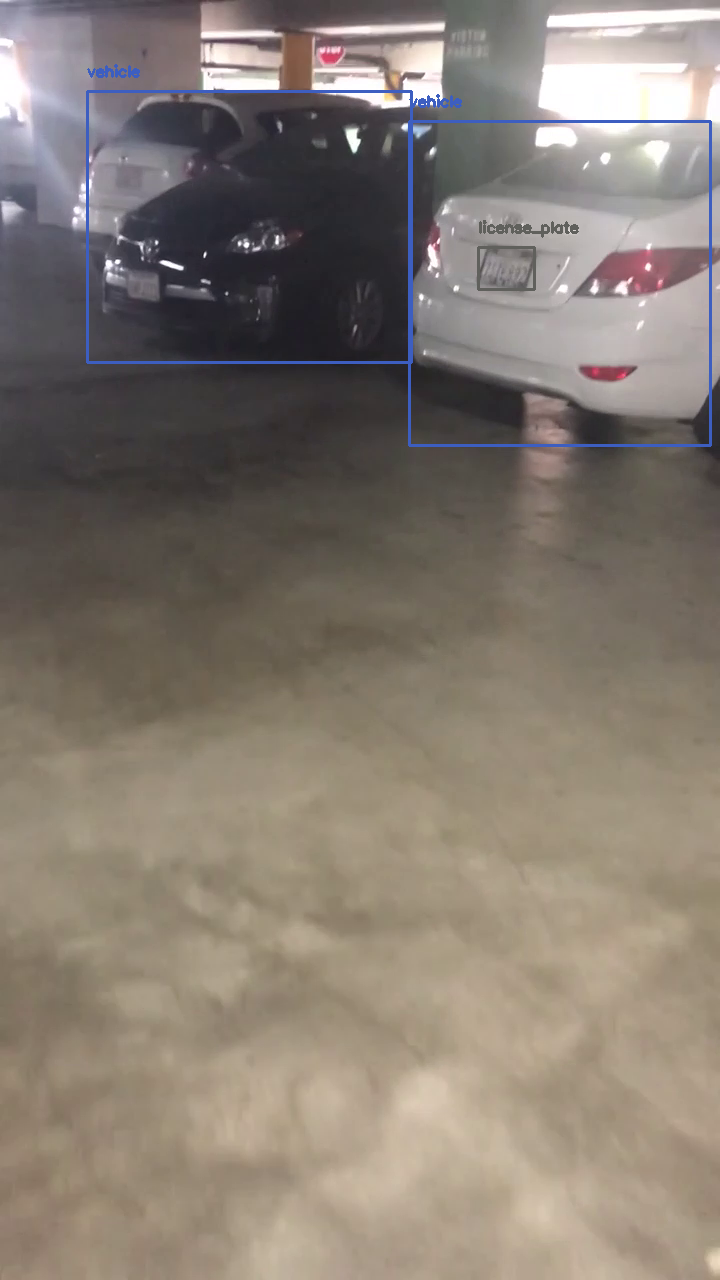license_plate: (478, 247, 534, 289)
vehicle: (409, 121, 710, 445), (87, 91, 411, 362)
